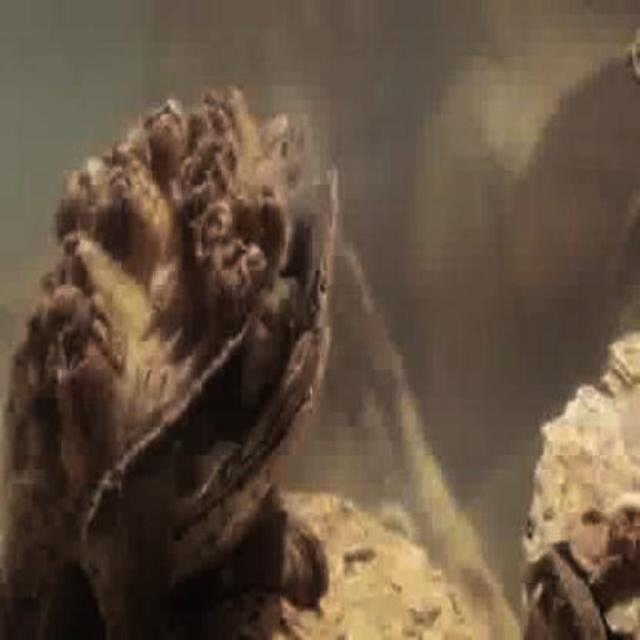Oyster-Closed: (205, 489, 476, 640), (527, 382, 640, 640), (177, 501, 329, 612), (607, 327, 640, 396), (631, 28, 640, 79)
Oyster-Open: (9, 89, 337, 596), (522, 555, 608, 640)
